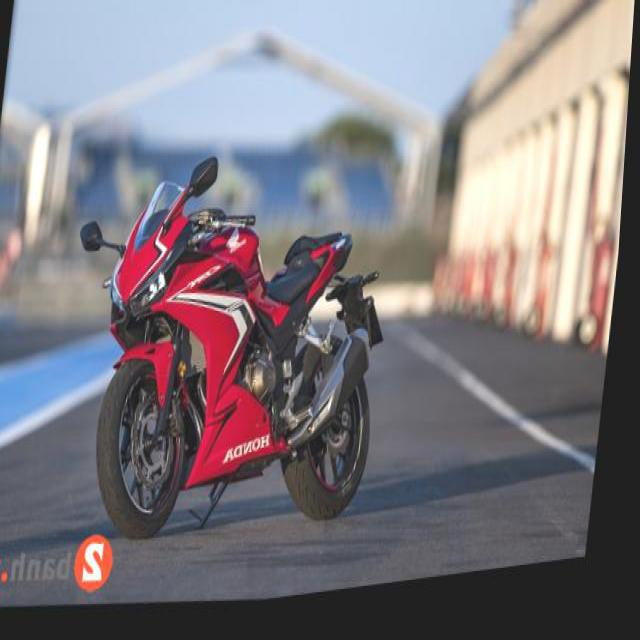CBR500R: (52, 129, 406, 574)
